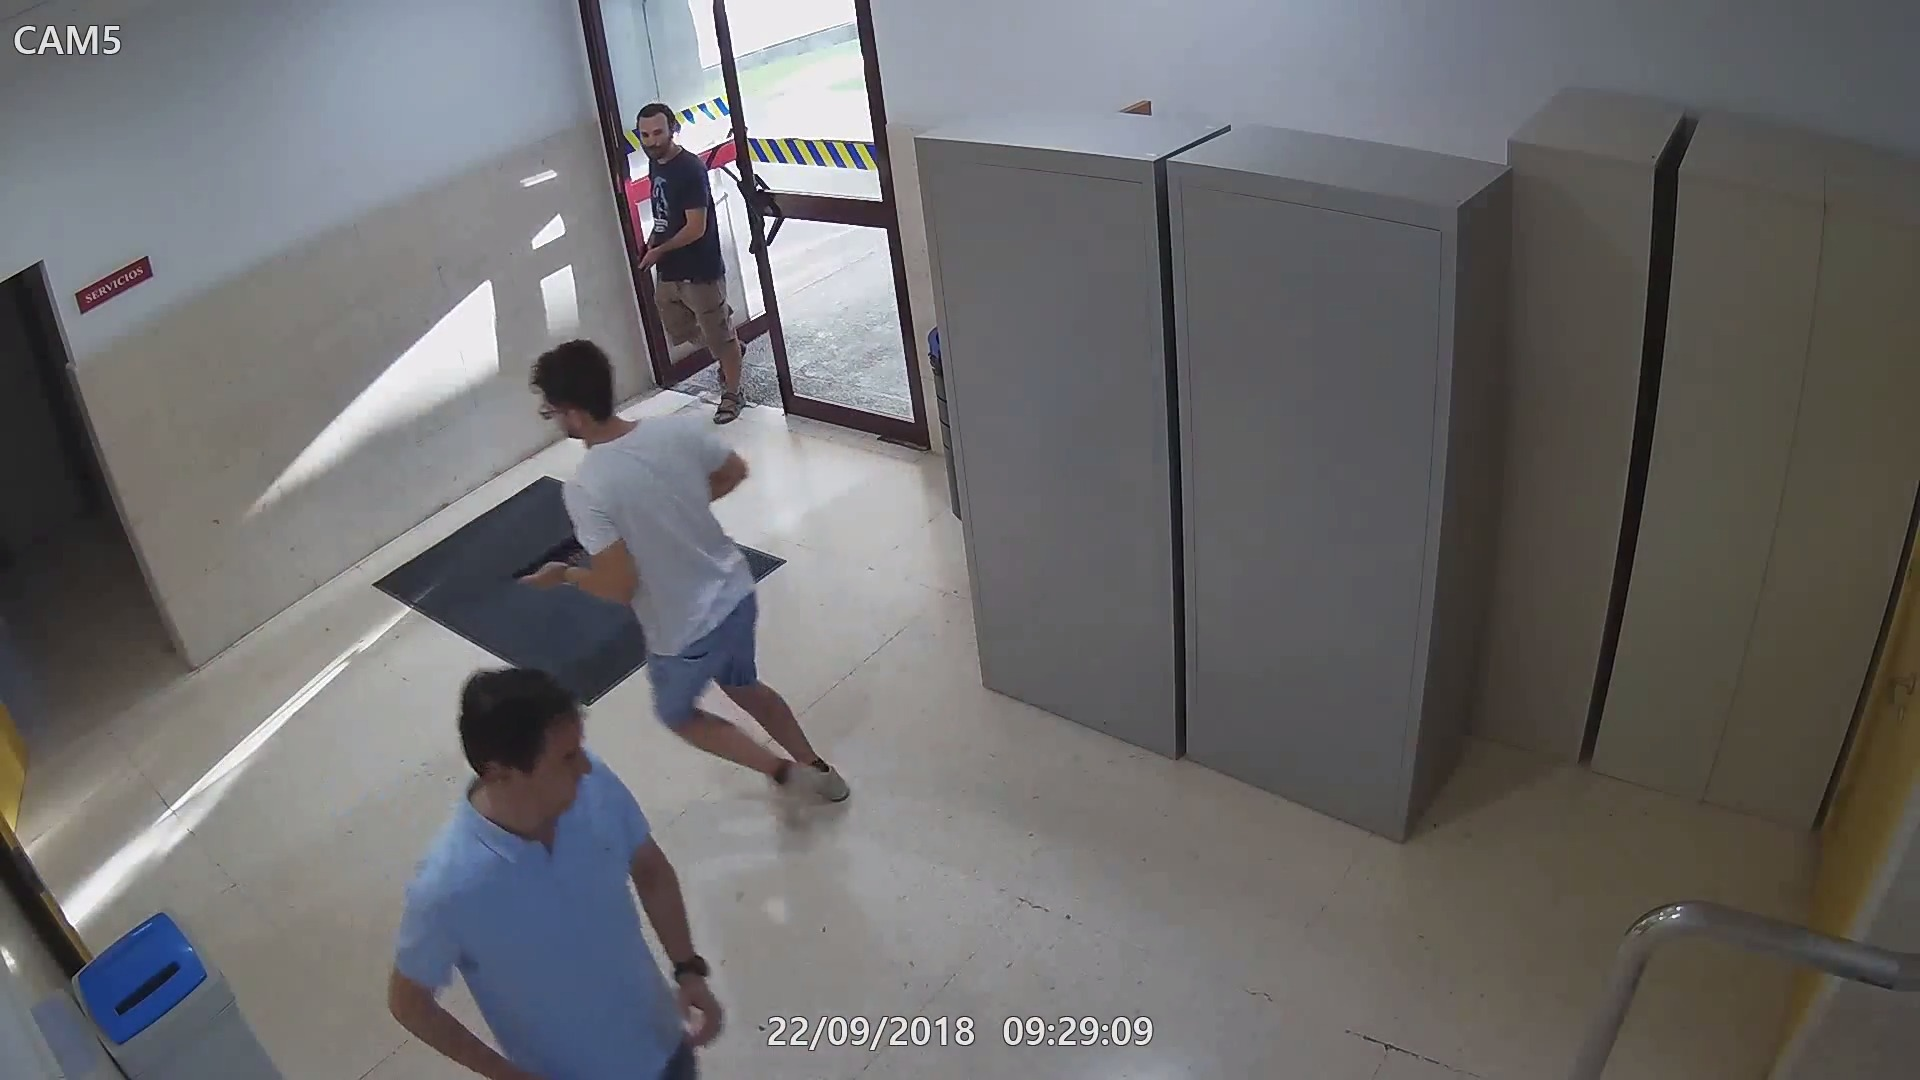Handgun: (629, 241, 665, 281)
Short_rifle: (510, 534, 592, 589)
